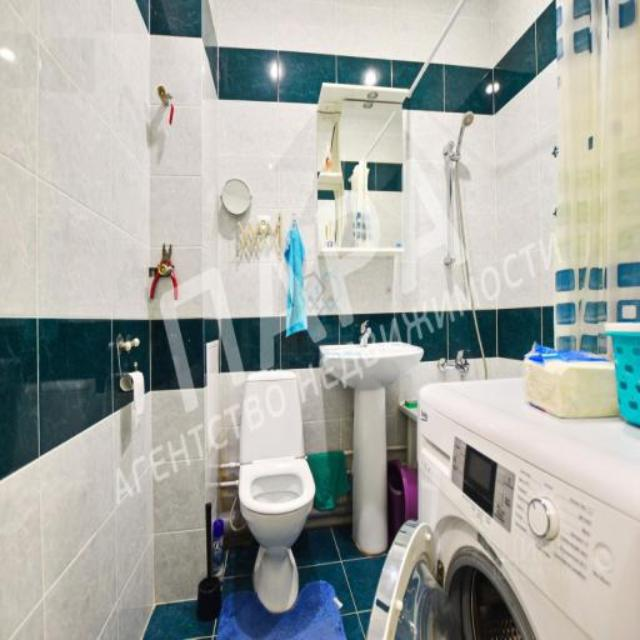Washing-Machine: (417, 375, 639, 640)
